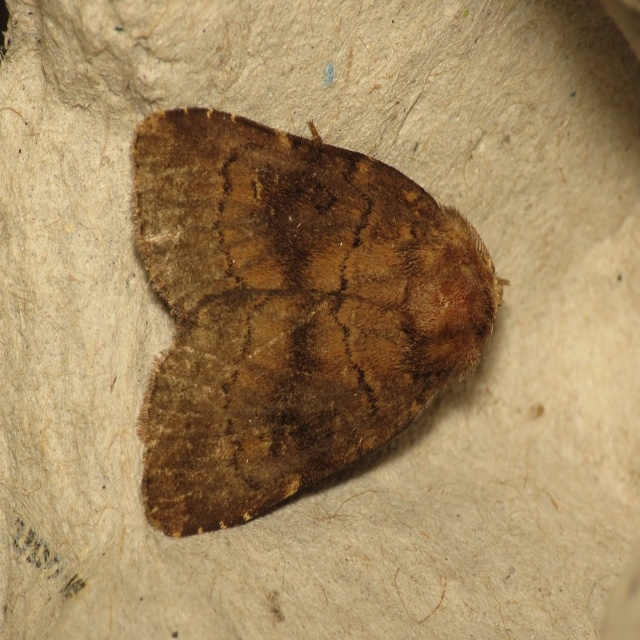Moths and butterflies: (132, 103, 511, 541)
